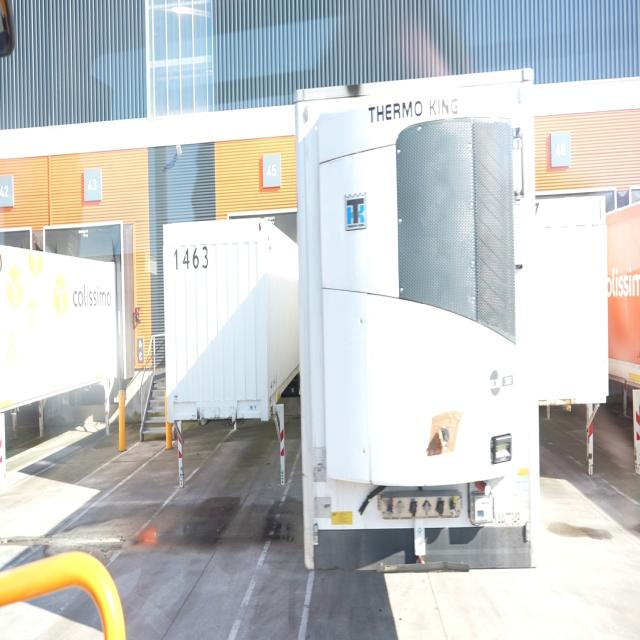Code: (170, 241, 212, 273)
